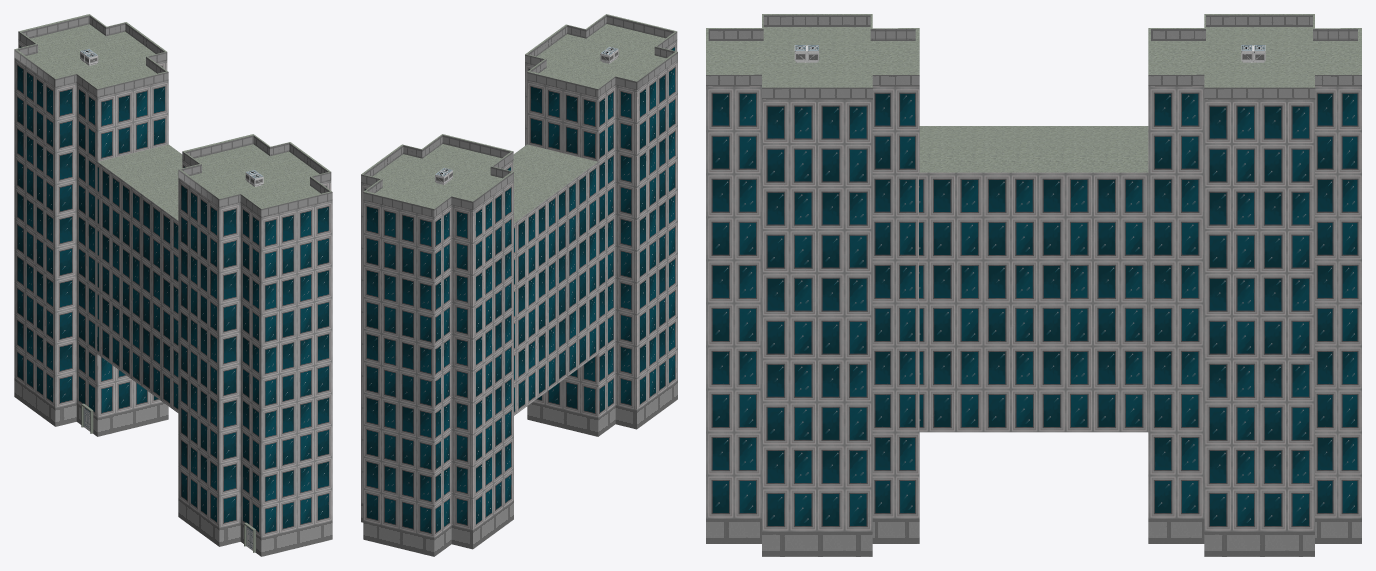
The model's file is BGN_BUILDING OFFICE TWIN.fbx.
3 views of the same model, side by side, from view 1: azimuth 30°, elevation 25°; view 2: azimuth 150°, elevation 25°; view 3: azimuth 270°, elevation 25° (orthographic). The views are drawn at different scales.
Parts seen in each view (by area): view 1: BGN_BUILDING_OFFICE_TWIN; view 2: BGN_BUILDING_OFFICE_TWIN; view 3: BGN_BUILDING_OFFICE_TWIN.
Part boxes in pixels (x1,y1,x2,y2): BGN_BUILDING_OFFICE_TWIN: (14,14,332,556); BGN_BUILDING_OFFICE_TWIN: (361,14,677,556); BGN_BUILDING_OFFICE_TWIN: (706,14,1361,556).
Bounding box in the file's own units: 1575 × 4678 × 5923.
